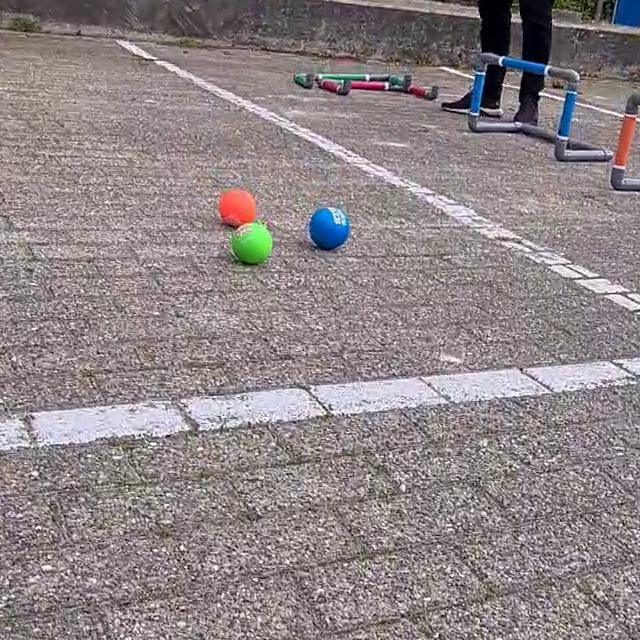ball: (228, 219, 276, 268), (308, 204, 352, 253), (215, 185, 263, 224)
